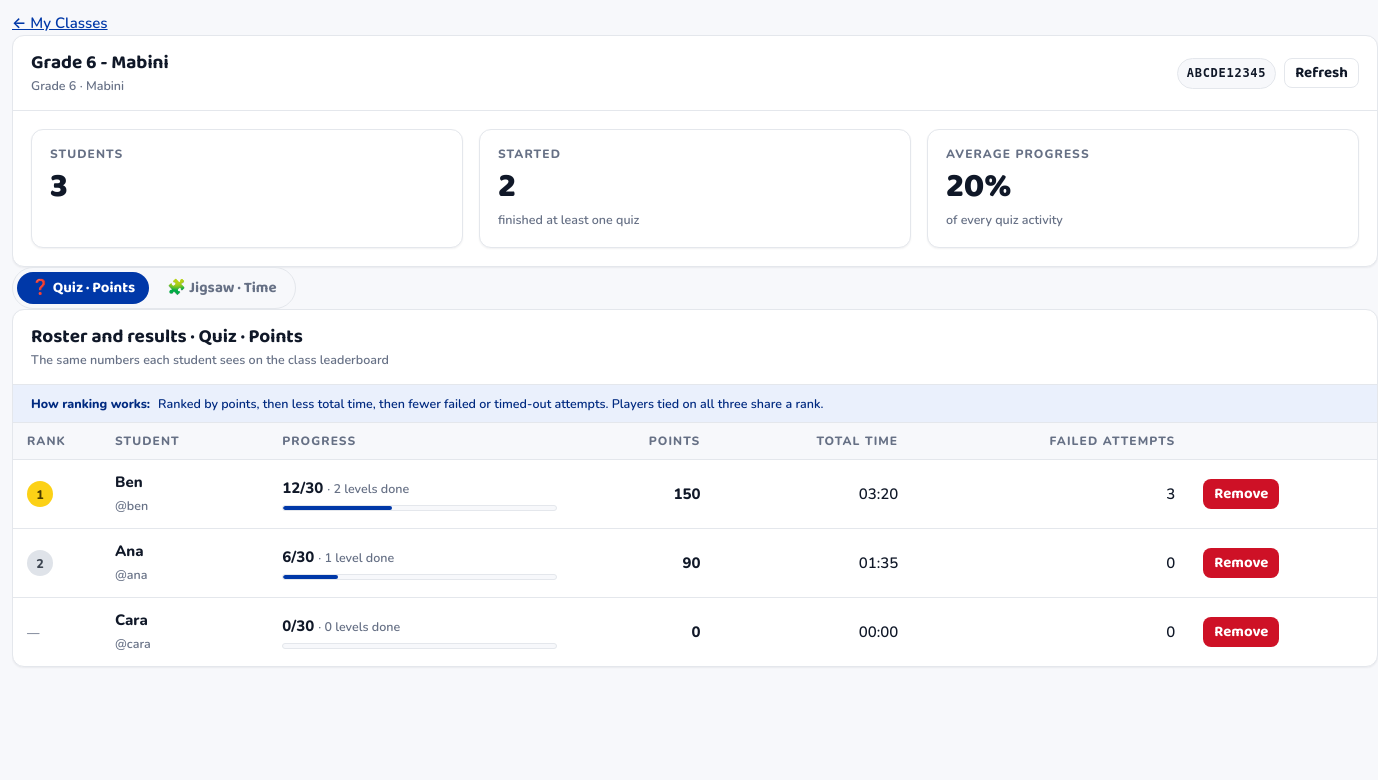
Test: class overview › switches to the jigsaw time board
expect the table is shown: met, box [13,423,1377,666]
What coordinates should you click on to do the following:
click the tab "🧩 Jigsaw · Time"
I would click on:
 (222, 288)
Its box is [153,272,291,304].
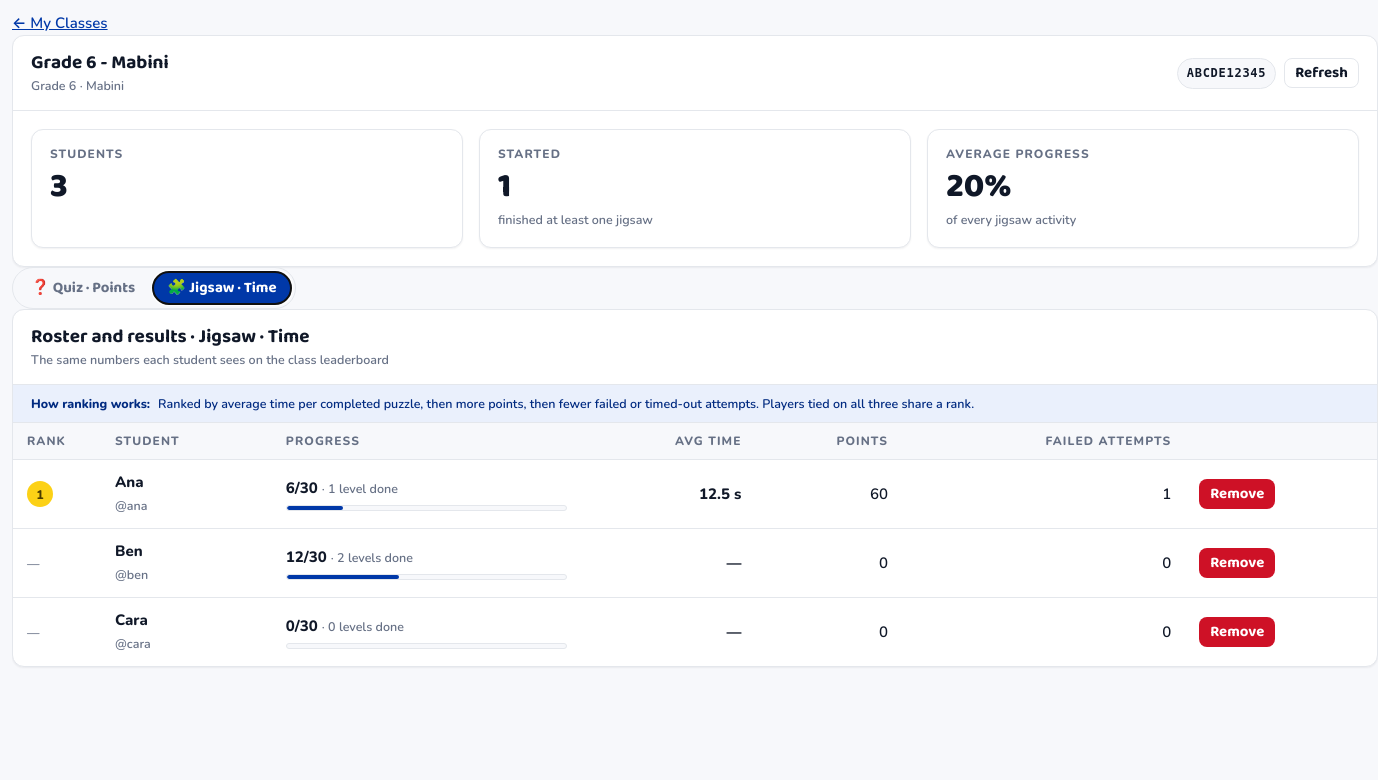
expect the text "12.5 s" is shown: met, box [699,484,742,504]
